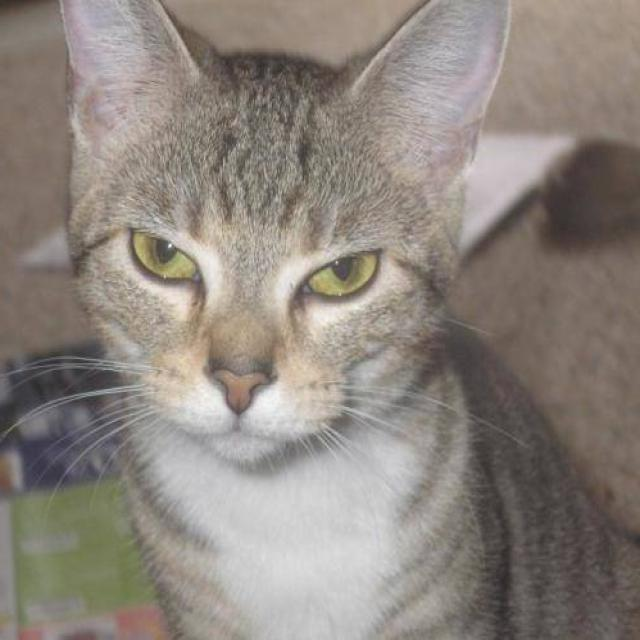Kucing: (29, 0, 600, 592)
